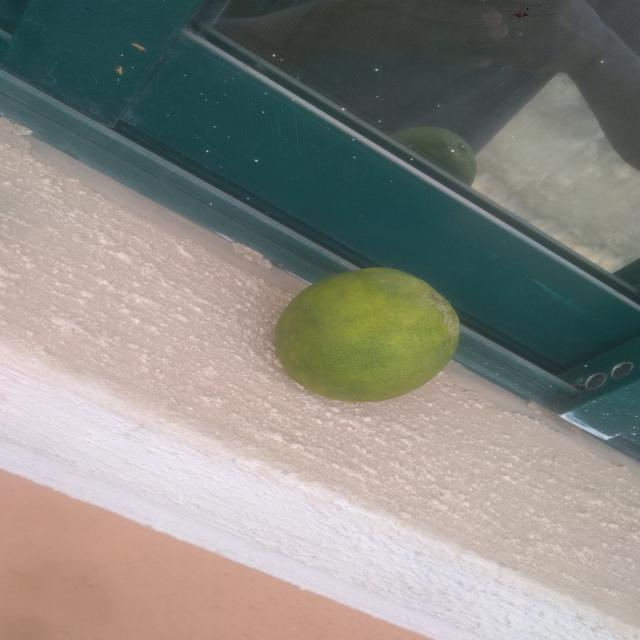Unripe: (254, 265, 468, 409)
